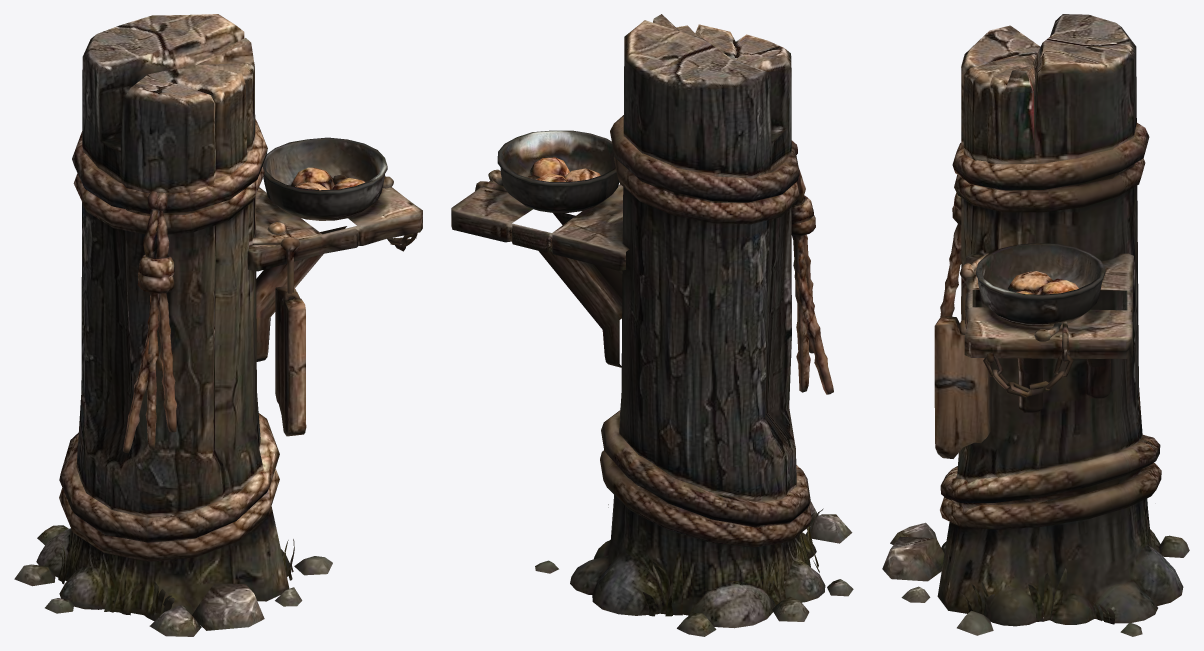
Rendered from act1-a22-2-toll-post.glb.
3 views of the same model, side by side, from view 1: azimuth 30°, elevation 25°; view 2: azimuth 150°, elevation 25°; view 3: azimuth 270°, elevation 25° (orthographic).
Parts seen in each view (by area): view 1: act1-a22-2-toll-post; view 2: act1-a22-2-toll-post; view 3: act1-a22-2-toll-post.
Part boxes in pixels (<box>): act1-a22-2-toll-post: <box>14,14,422,636</box>; act1-a22-2-toll-post: <box>451,14,853,636</box>; act1-a22-2-toll-post: <box>882,14,1189,636</box>.
Size of the model in its own units: 0.9125 by 1.3 by 0.6667.
Materials: 1 (1 with a texture image).
